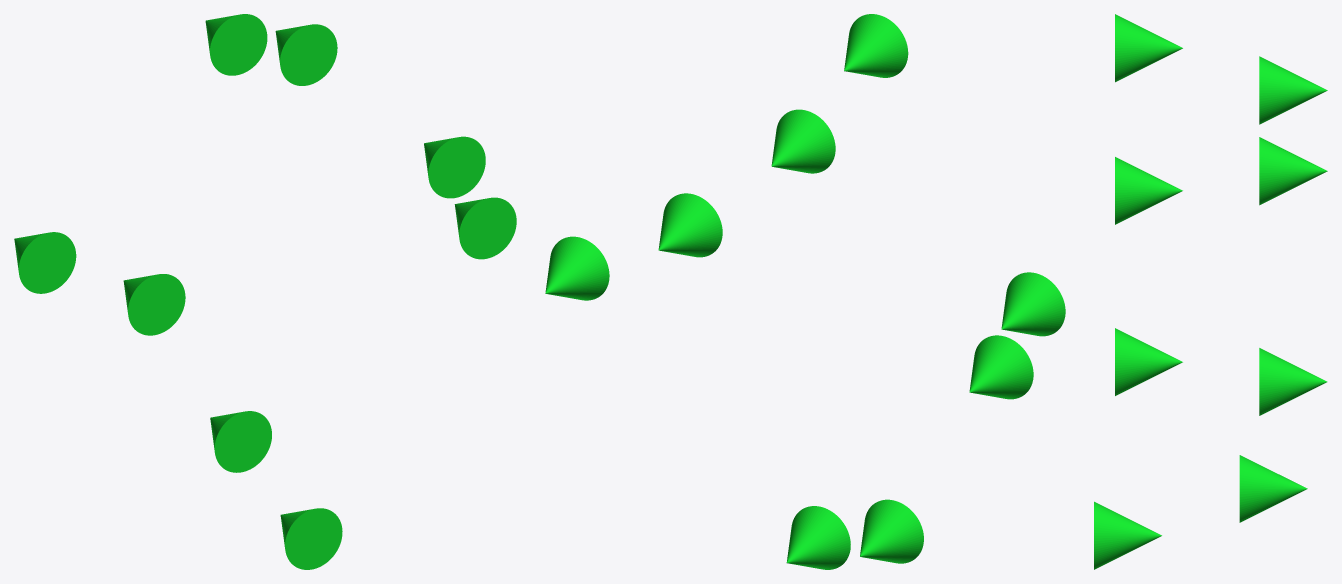
The model's file is FelchasCamUp.dae.
The picture shows the model from 3 angles, left to right: view 1: azimuth 30°, elevation 25°; view 2: azimuth 150°, elevation 25°; view 3: azimuth 270°, elevation 25°; orthographic projection. The views are drawn at different scales.
Visible parts, largest first — view 1: Cone.002; view 2: Cone.002; view 3: Cone.002.
Part boxes in pixels (x1=…): Cone.002: x1=14, y1=14, x2=516, y2=569; Cone.002: x1=545, y1=14, x2=1065, y2=569; Cone.002: x1=1094, y1=14, x2=1327, y2=569.
Size of the model in its own units: 0.7359 by 0.3095 by 0.8061.
